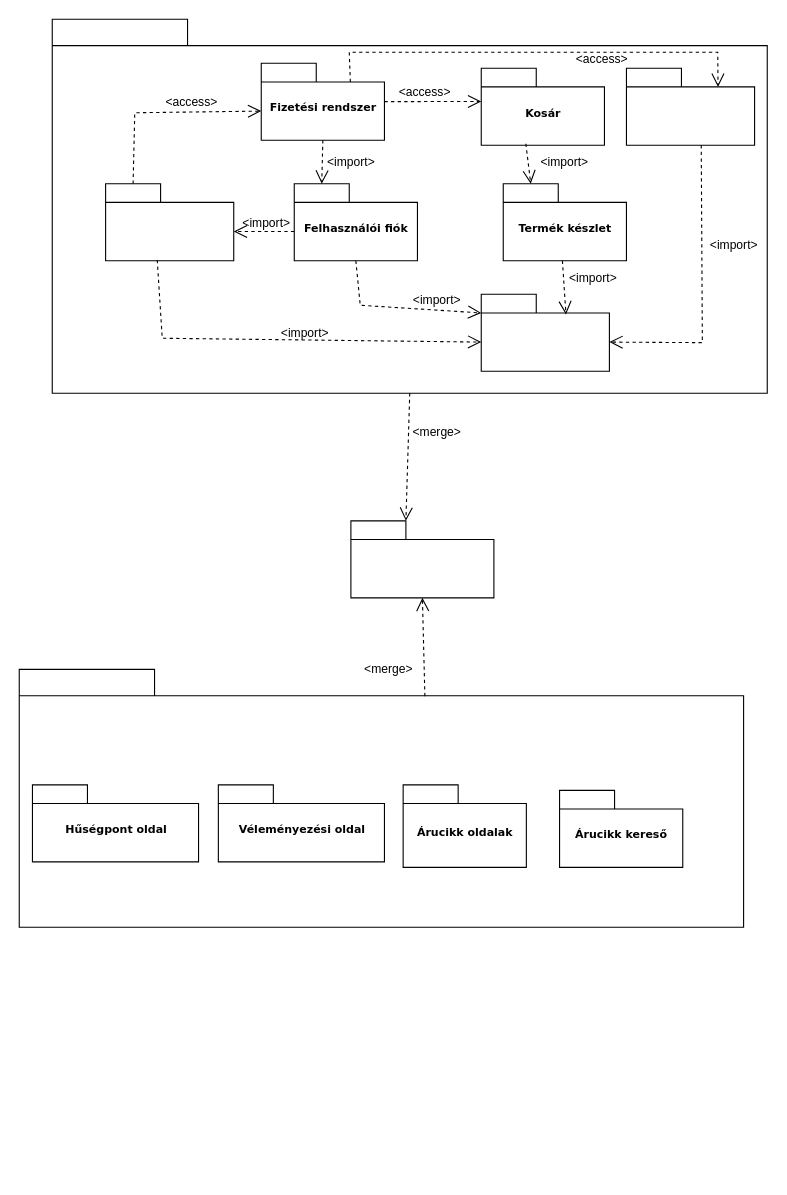
This 787x1195 diagram has some shape labels left out. Each missing label, with the box of its shape:
DatabaseControl: (480, 293, 609, 371)
Hűségpont rendszer: (625, 67, 755, 145)
Rendelések: (105, 183, 234, 261)
Webshop UI: (350, 520, 494, 598)
